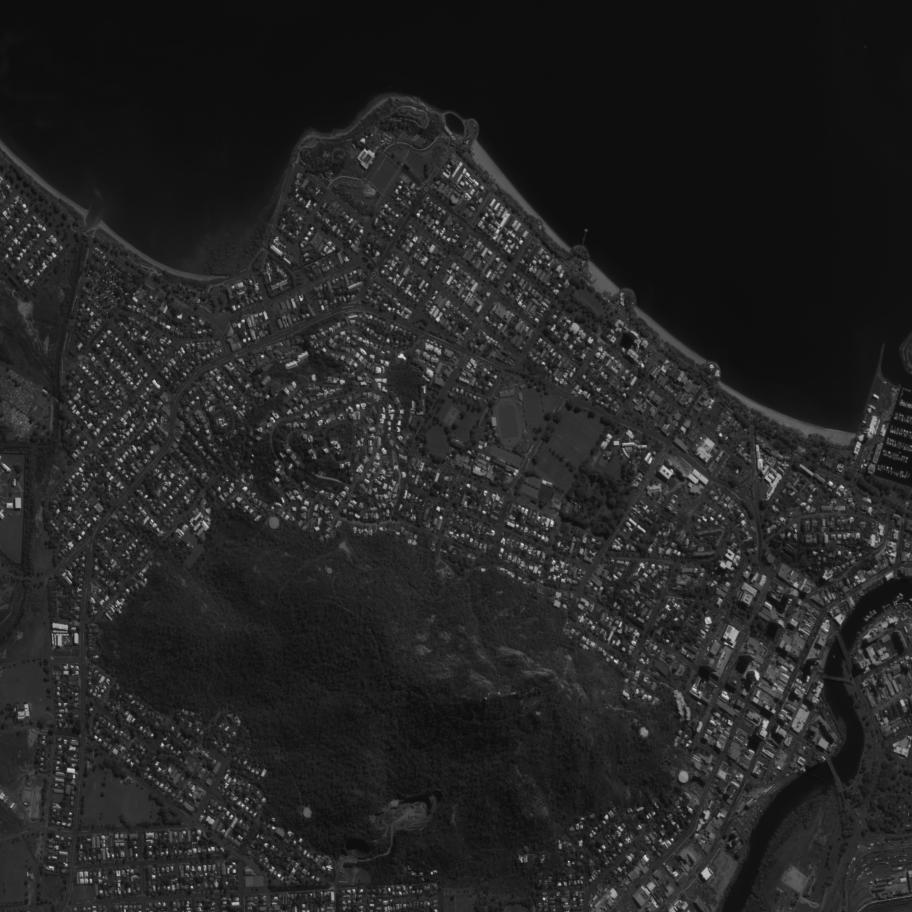storage-tank: (677, 770, 689, 784), (268, 516, 280, 530), (302, 806, 314, 819), (326, 567, 334, 575)
